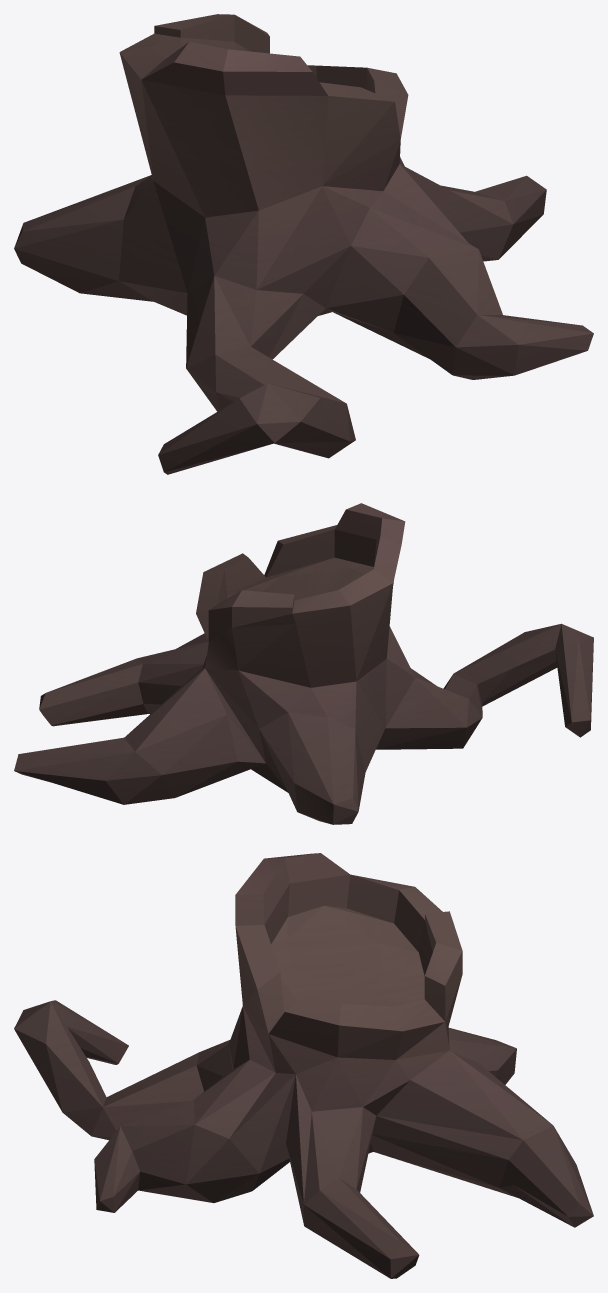
File: stump2.glb
3 renders of one model, top to bottom at view 1: azimuth 30°, elevation 25°; view 2: azimuth 150°, elevation 25°; view 3: azimuth 270°, elevation 25°, orthographic. The views are drawn at different scales.
Visible parts, largest first — view 1: stump2; view 2: stump2; view 3: stump2.
Part boxes in pixels (box(x1,y1,x2,y2)): stump2: box(14, 14, 593, 474); stump2: box(14, 503, 593, 824); stump2: box(14, 853, 593, 1278).
Size of the model in its own units: 1.69 by 0.9664 by 1.79.
Materials: 1 (1 with a texture image).
